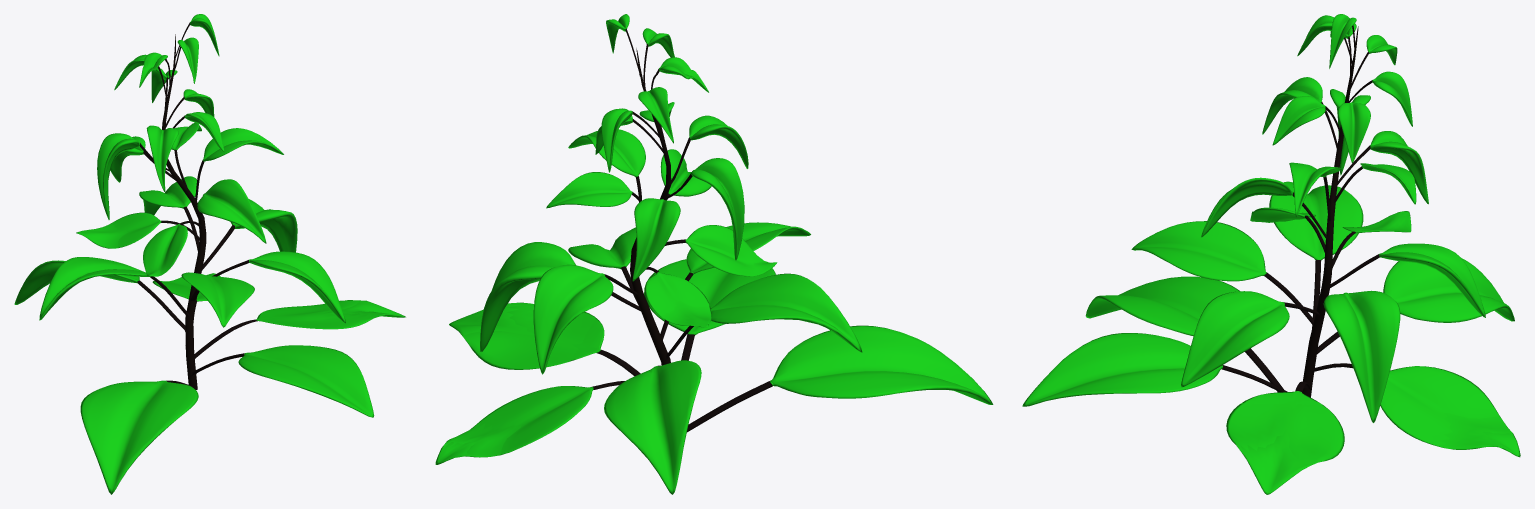
The model's file is plant.obj.
The picture shows the model from 3 angles, left to right: view 1: azimuth 30°, elevation 25°; view 2: azimuth 150°, elevation 25°; view 3: azimuth 270°, elevation 25°; orthographic projection. The views are drawn at different scales.
Visible parts, largest first — view 1: Leaf_Circle, Stem_Circle.001; view 2: Leaf_Circle, Stem_Circle.001; view 3: Leaf_Circle, Stem_Circle.001.
Part boxes in pixels (x1,y1,x2,y2): Leaf_Circle: (14,14,405,494); Stem_Circle.001: (162,34,206,388); Leaf_Circle: (435,14,993,494); Stem_Circle.001: (630,48,671,365); Leaf_Circle: (1022,14,1520,494); Stem_Circle.001: (1302,26,1358,397).
Bounding box in the file's own units: 7.09 × 6.45 × 6.93.
